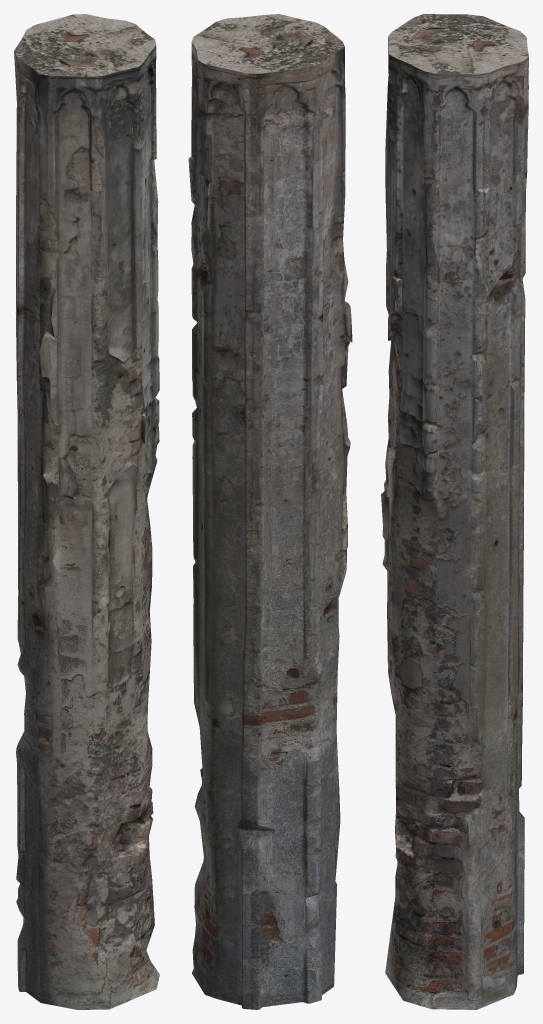
Rendered from sm_ChapelColumn_01_02.fbx.
The picture shows the model from 3 angles, left to right: view 1: azimuth 30°, elevation 25°; view 2: azimuth 150°, elevation 25°; view 3: azimuth 270°, elevation 25°; orthographic projection.
Parts seen in each view (by area): view 1: sm_ChapelColumn_01_02_LOD0; view 2: sm_ChapelColumn_01_02_LOD0; view 3: sm_ChapelColumn_01_02_LOD0.
Boxes of the visible parts, box(x1,y1,x2,y2) form: sm_ChapelColumn_01_02_LOD0: box(14, 14, 159, 1009); sm_ChapelColumn_01_02_LOD0: box(188, 14, 352, 1009); sm_ChapelColumn_01_02_LOD0: box(381, 14, 528, 1009).
Bounding box in the file's own units: 81.43 × 80.68 × 562.
